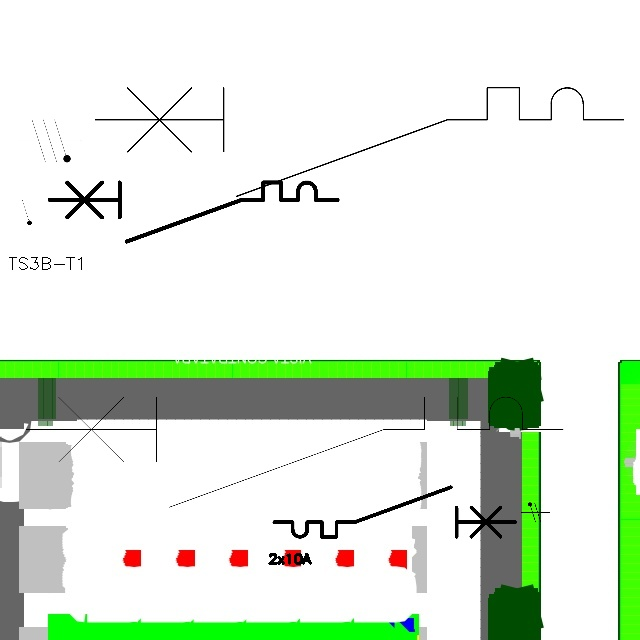interruptor_termomagnetico: (12, 383, 577, 521), (81, 74, 636, 210), (42, 175, 345, 249), (268, 481, 521, 543)
